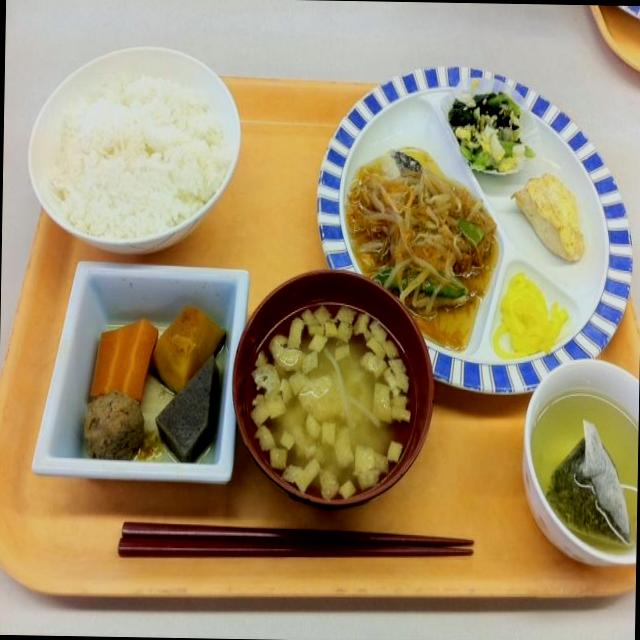Rice: (36, 55, 228, 236)
